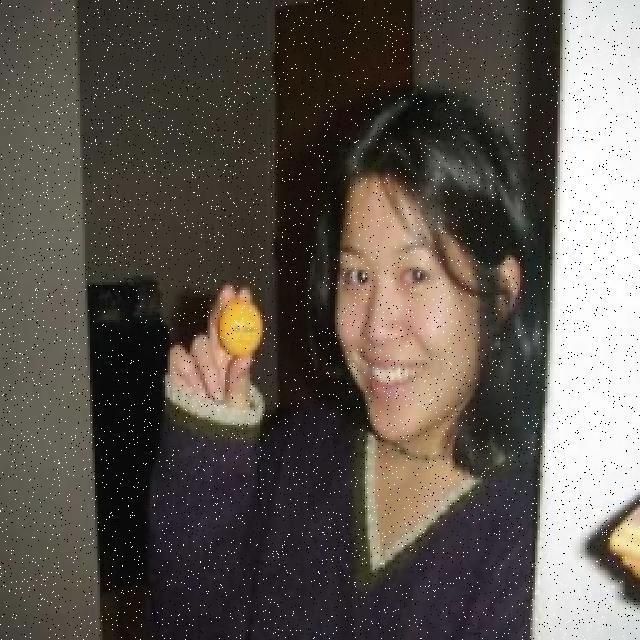ping-pong-ball: (220, 297, 262, 360)
